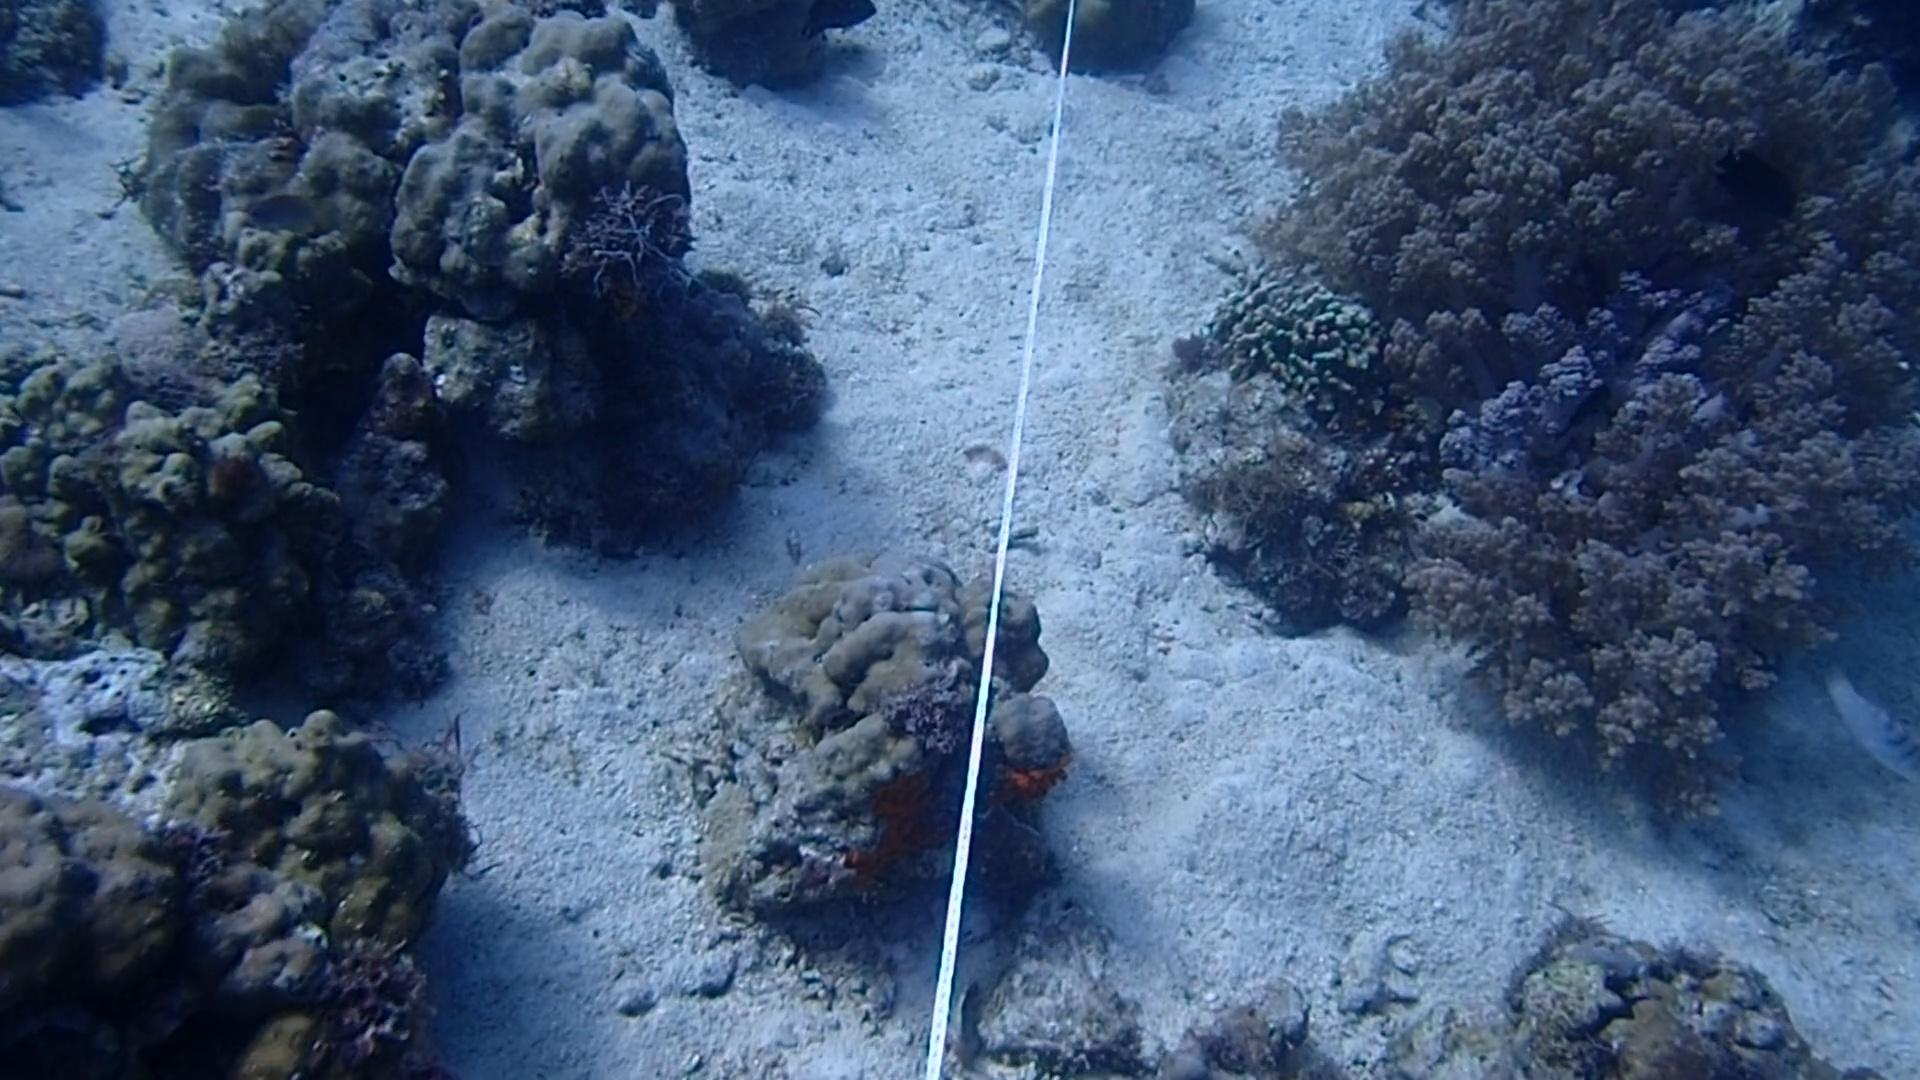Dark Fish: (1712, 142, 1801, 233), (1549, 368, 1618, 435), (791, 0, 890, 46)
Light Fish w Back Stripes: (1804, 661, 1920, 787)
